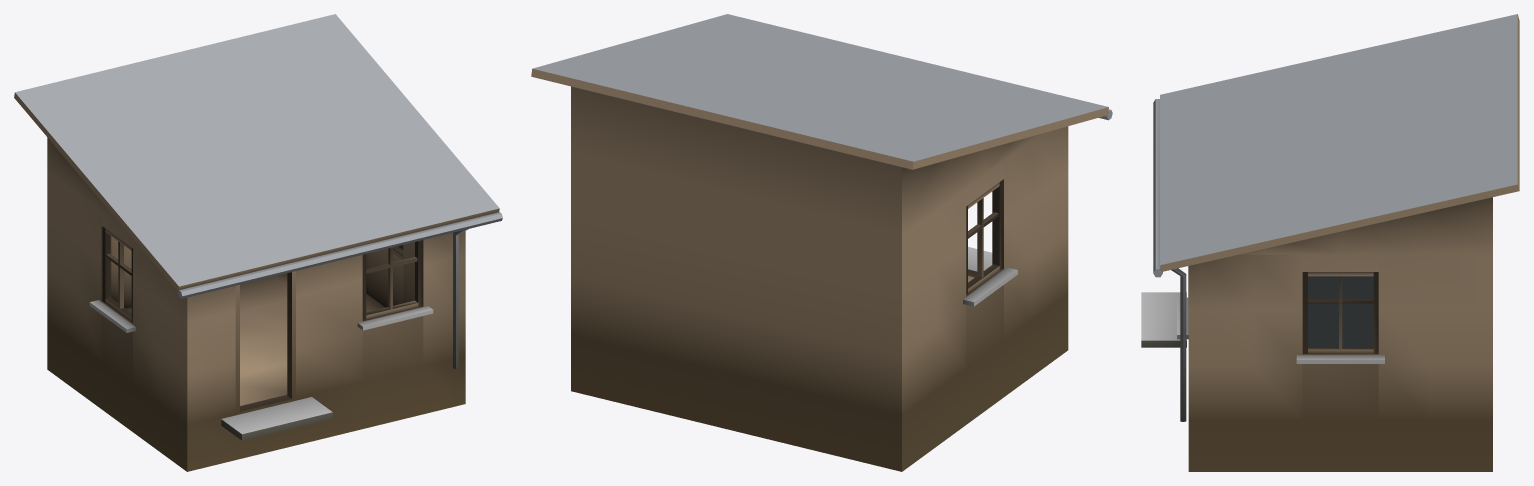
The model's file is fishing_hut.glb.
3 renders of one model, left to right at view 1: azimuth 30°, elevation 25°; view 2: azimuth 150°, elevation 25°; view 3: azimuth 270°, elevation 25°, orthographic. The views are drawn at different scales.
Parts seen in each view (by area): view 1: fishing_hut; view 2: fishing_hut; view 3: fishing_hut.
Part boxes in pixels (x1=…): fishing_hut: x1=14, y1=14, x2=502, y2=471; fishing_hut: x1=531, y1=14, x2=1112, y2=471; fishing_hut: x1=1141, y1=14, x2=1519, y2=471.
Size of the model in its own units: 5.3 by 4.33 by 4.97.
